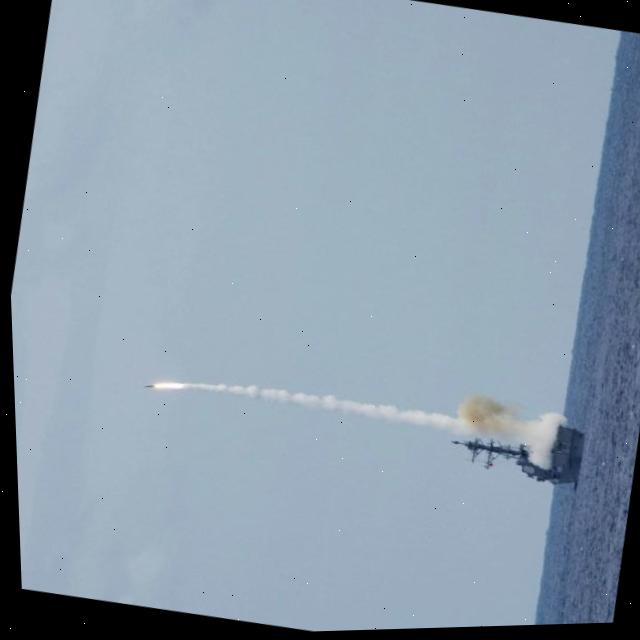missile: (136, 381, 151, 394)
